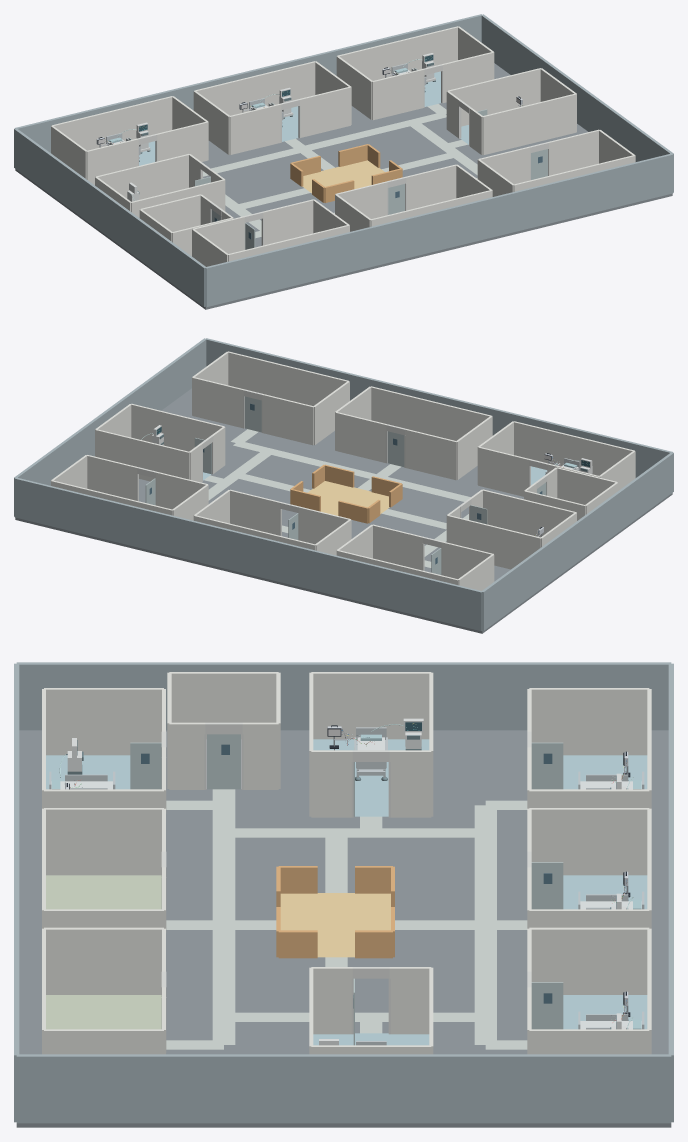
File: ward_floor_02.glb
3 renders of one model, top to bottom at view 1: azimuth 30°, elevation 25°; view 2: azimuth 150°, elevation 25°; view 3: azimuth 270°, elevation 25°, orthographic. The views are drawn at different scales.
Parts seen in each view (by area): view 1: F02 | Entire floor | single wall unit, F02 | Entire floor | one continuous unit, F02 | Room 07 door leaf, F02 | Room 08 door leaf; view 2: F02 | Entire floor | single wall unit, F02 | Entire floor | one continuous unit, F02 | Room 08 door leaf, F02 | Room 07 door leaf; view 3: F02 | Entire floor | single wall unit, F02 | Entire floor | one continuous unit, F02 | Elevator door leaf, F02 | Room 03 door leaf, F02 | Room 02 door leaf, F02 | Room 01 door leaf, F02 | Room 06 door leaf.
Part boxes in pixels (x1,y1,x2,y2): F02 | Entire floor | single wall unit: (14,14,673,307); F02 | Entire floor | one continuous unit: (15,63,672,309); F02 | Room 07 door leaf: (388,184,404,214); F02 | Room 08 door leaf: (531,149,547,179); F02 | Entire floor | single wall unit: (14,338,673,631); F02 | Entire floor | one continuous unit: (15,388,672,633); F02 | Room 08 door leaf: (244,396,261,432); F02 | Room 07 door leaf: (387,431,404,466); F02 | Entire floor | single wall unit: (14,662,673,1123); F02 | Entire floor | one continuous unit: (16,730,671,1127); F02 | Elevator door leaf: (207,734,240,789); F02 | Room 03 door leaf: (531,982,563,1029); F02 | Room 02 door leaf: (531,862,563,909); F02 | Room 01 door leaf: (531,742,563,789); F02 | Room 06 door leaf: (130,742,161,789).
Size of the model in its own units: 34.2 by 2.92 by 24.2.
